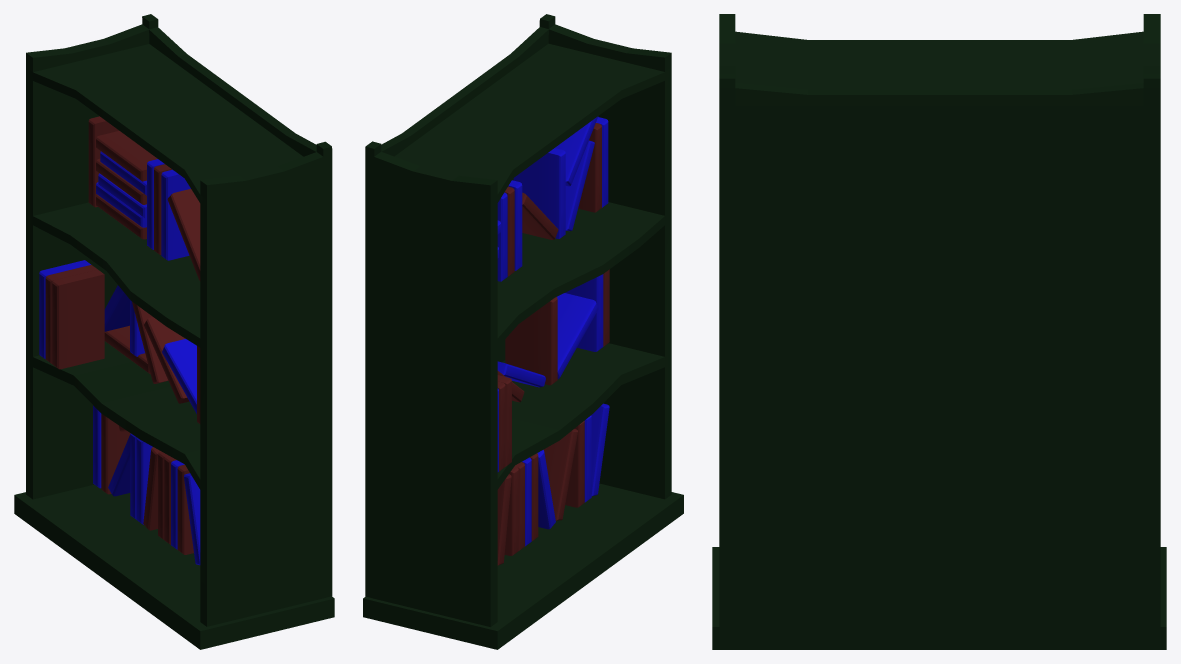
The model's file is Biblio 2.fbx.
The picture shows the model from 3 angles, left to right: view 1: azimuth 30°, elevation 25°; view 2: azimuth 150°, elevation 25°; view 3: azimuth 270°, elevation 25°; orthographic projection. The views are drawn at different scales.
Visible parts, largest first — view 1: Box001; view 2: Box001; view 3: Box001.
Part boxes in pixels (x1,y1,x2,y2): Box001: (14, 14, 334, 649); Box001: (363, 14, 683, 649); Box001: (712, 14, 1166, 649).
Bounding box in the file's own units: 11.84 × 39.36 × 28.35.
